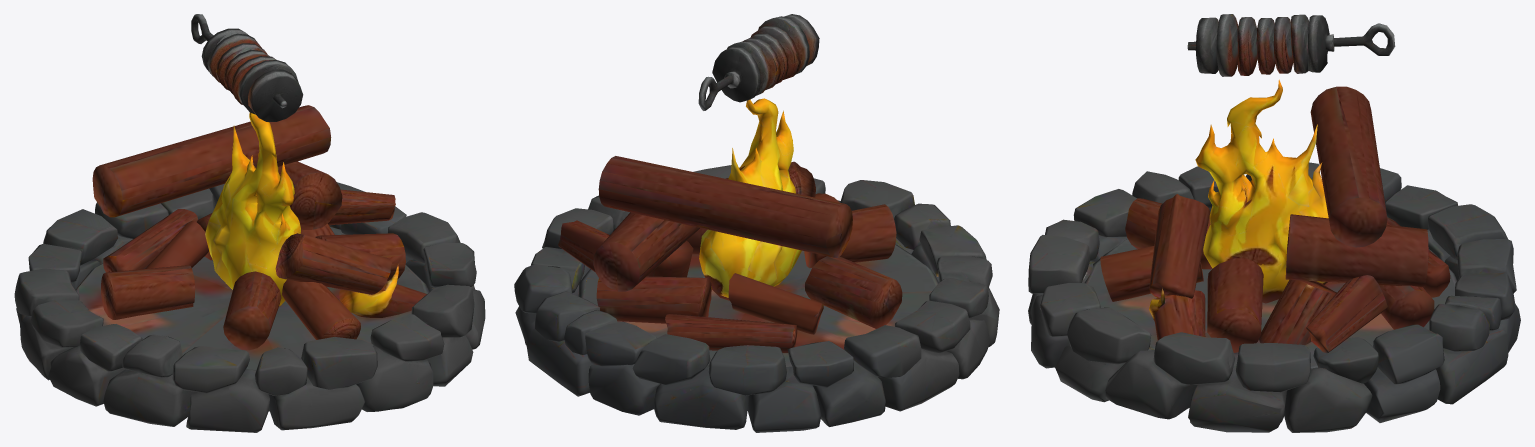
Rendered from bonfire.glb.
3 renders of one model, left to right at view 1: azimuth 30°, elevation 25°; view 2: azimuth 150°, elevation 25°; view 3: azimuth 270°, elevation 25°, orthographic. The views are drawn at different scales.
Bounding box in the file's own units: 0.9619 × 0.6641 × 0.9419.
1 material, 1 textured.
